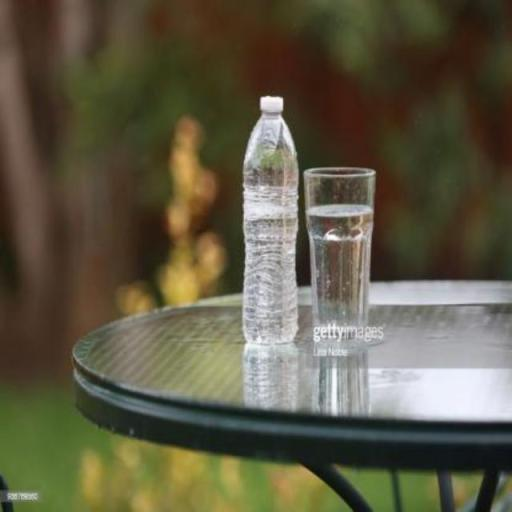Coca: (238, 87, 301, 348)
